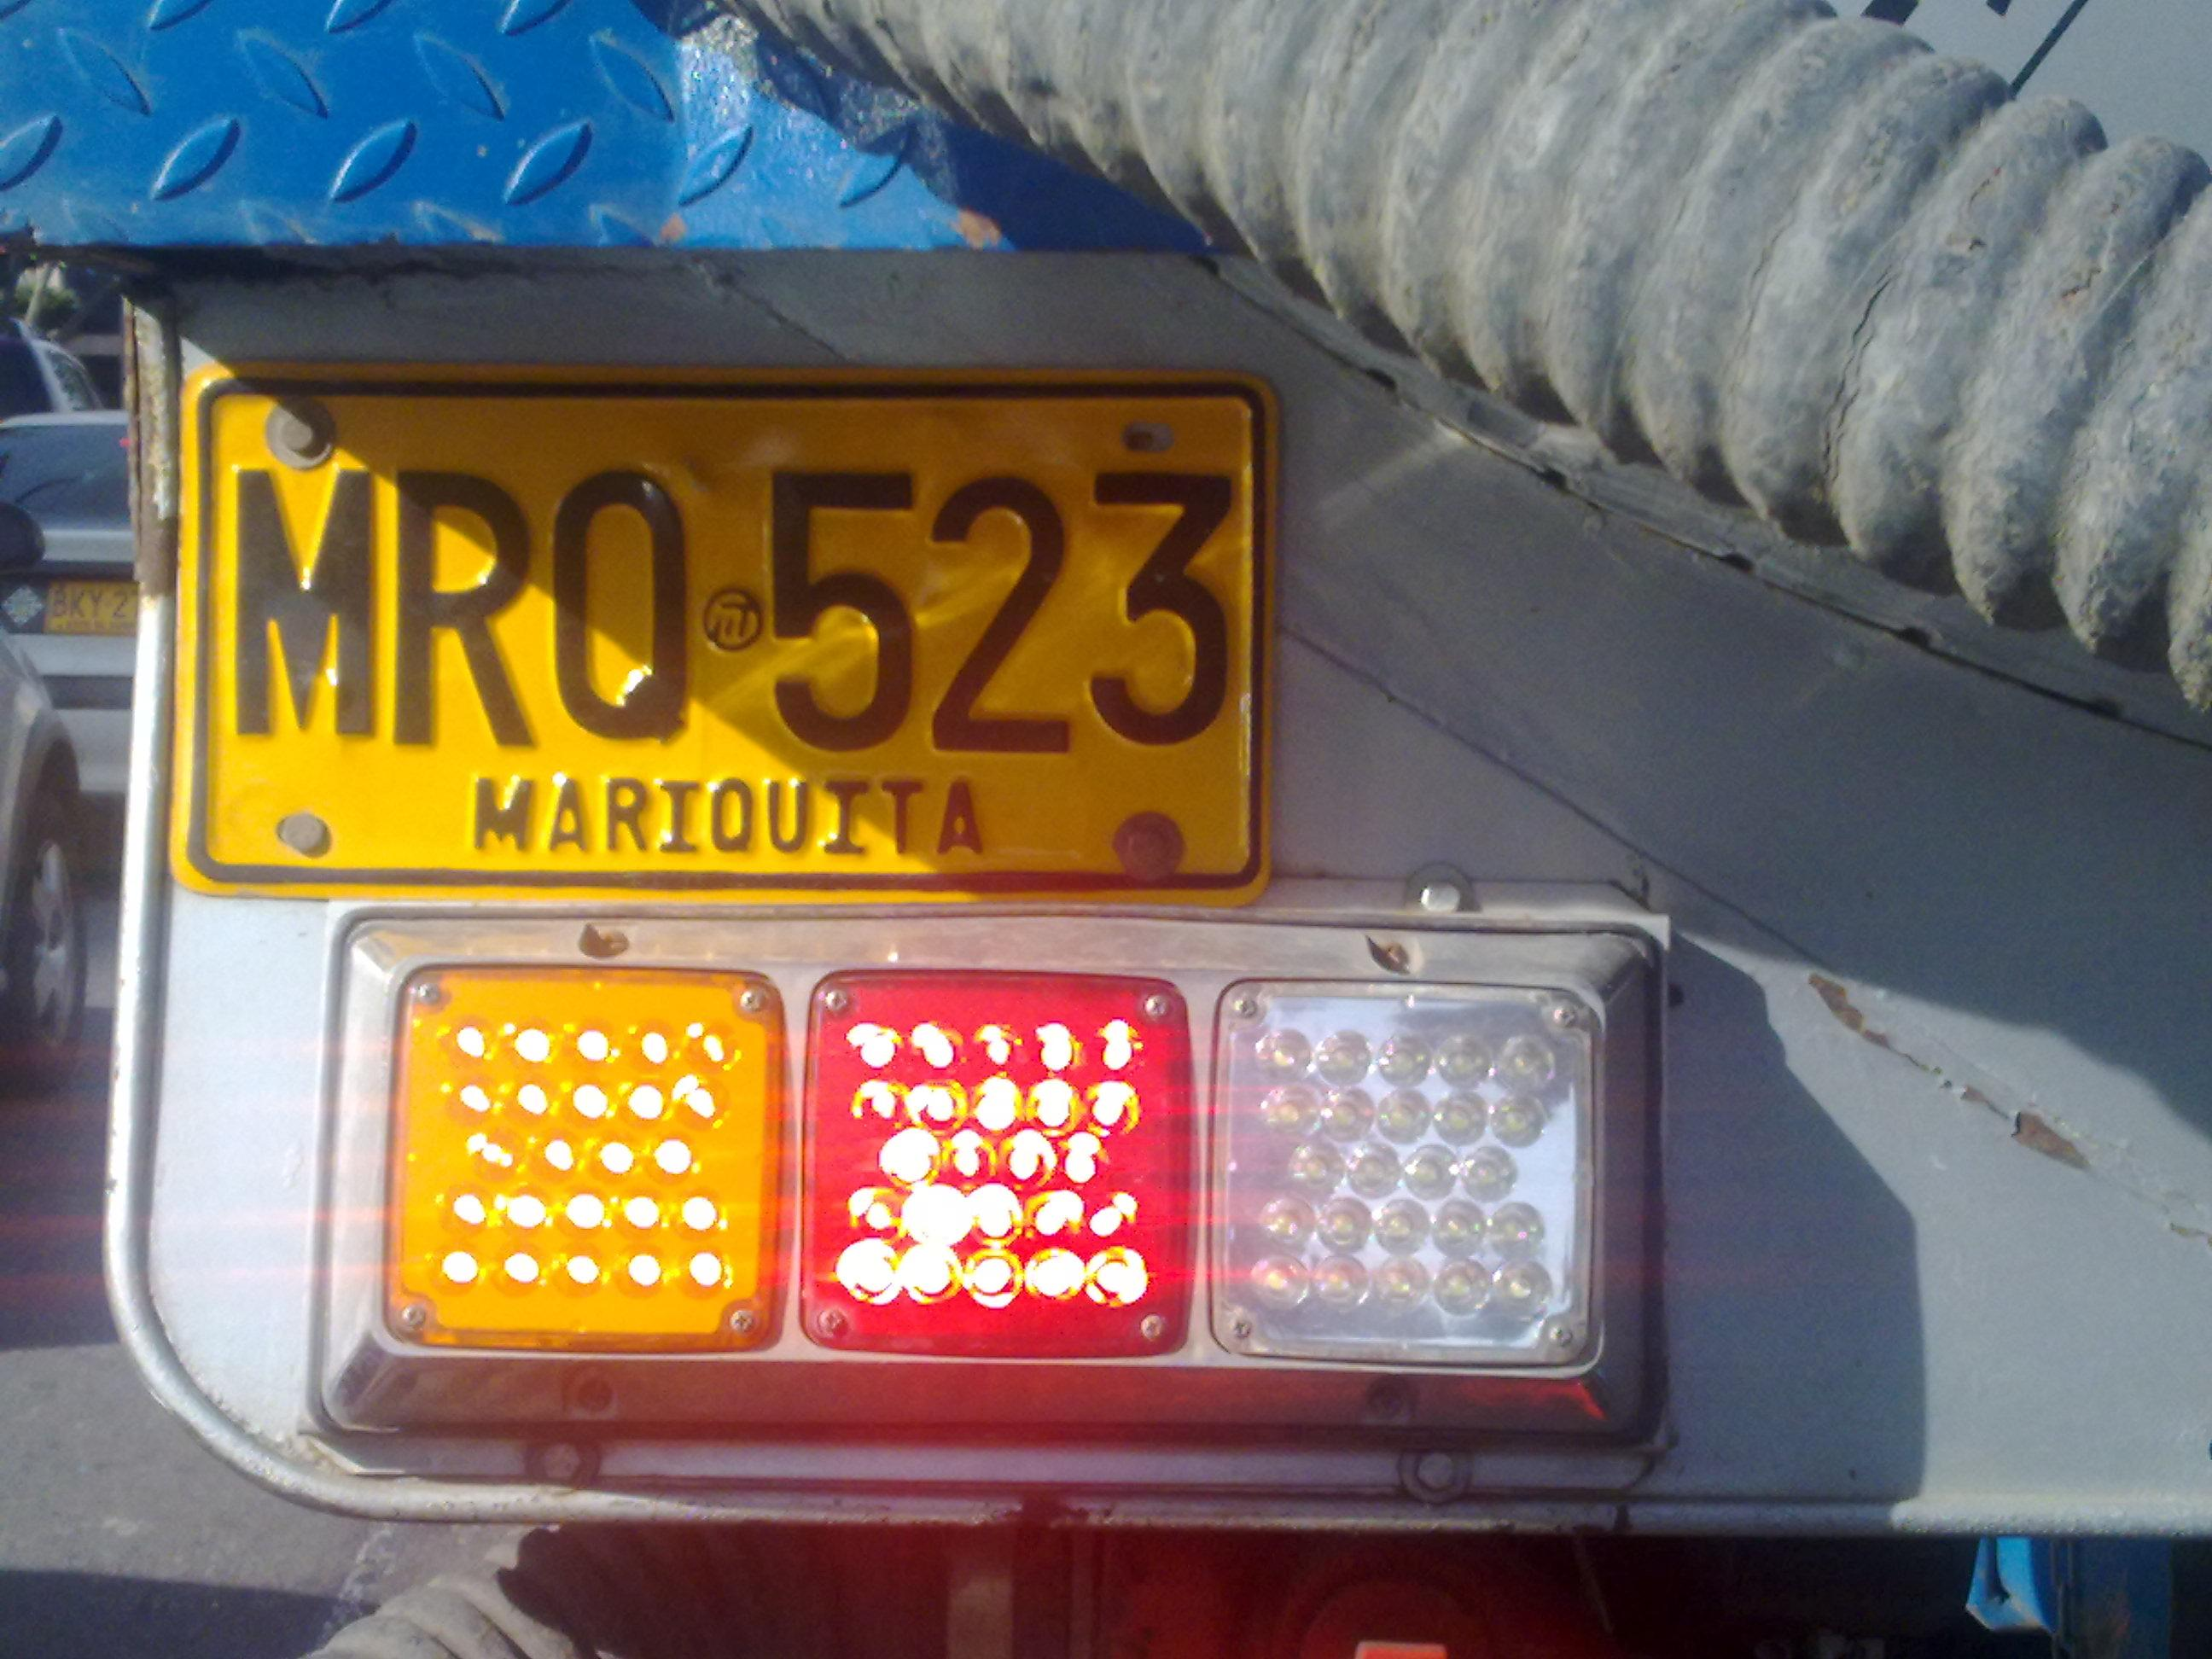placas: (166, 348, 1280, 921)
